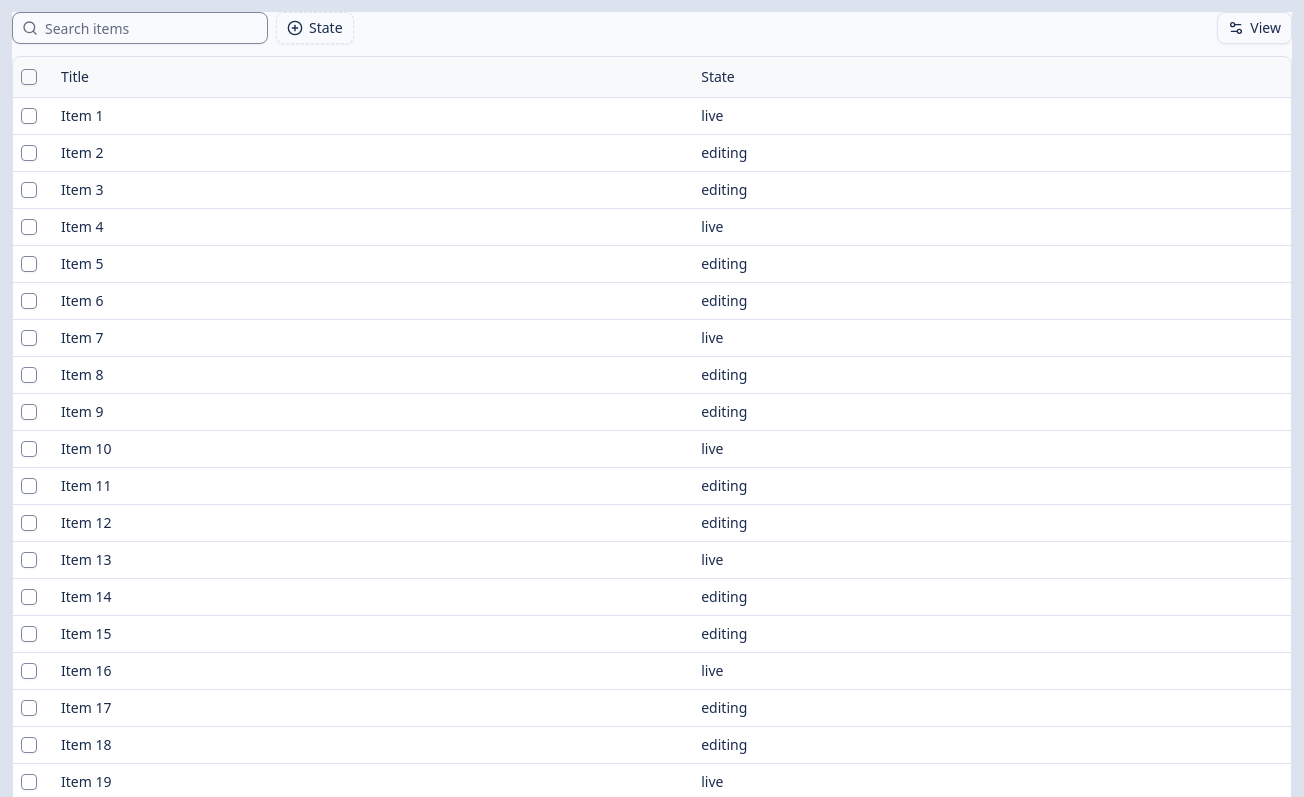
DataTable › selects every row on the page from the header checkbox
The width and height of the screenshot is (1304, 797).
Click the checkbox named "Select all rows on this page".
click(29, 77)  # box [21, 69, 37, 85]
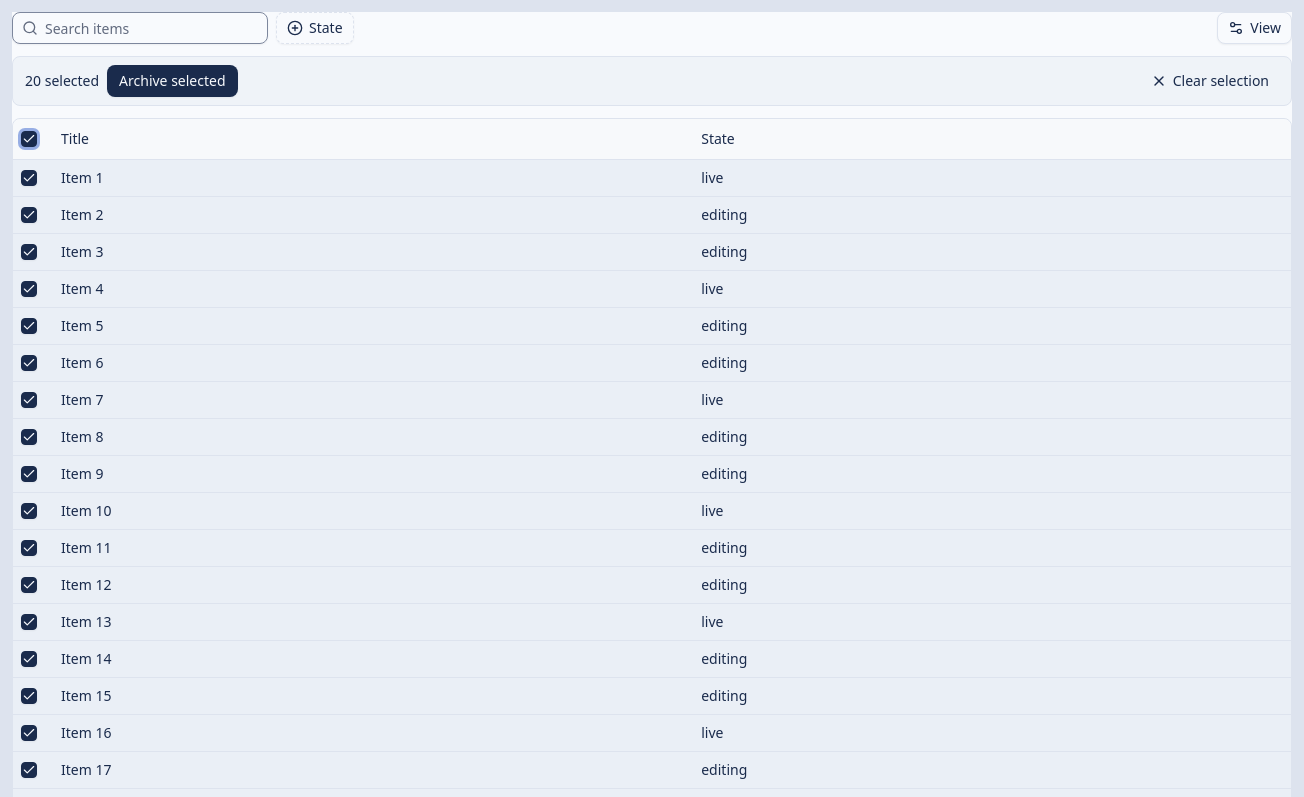
expect the element named "Batch actions" shows "20 selected": met, box [12, 56, 1292, 106]
